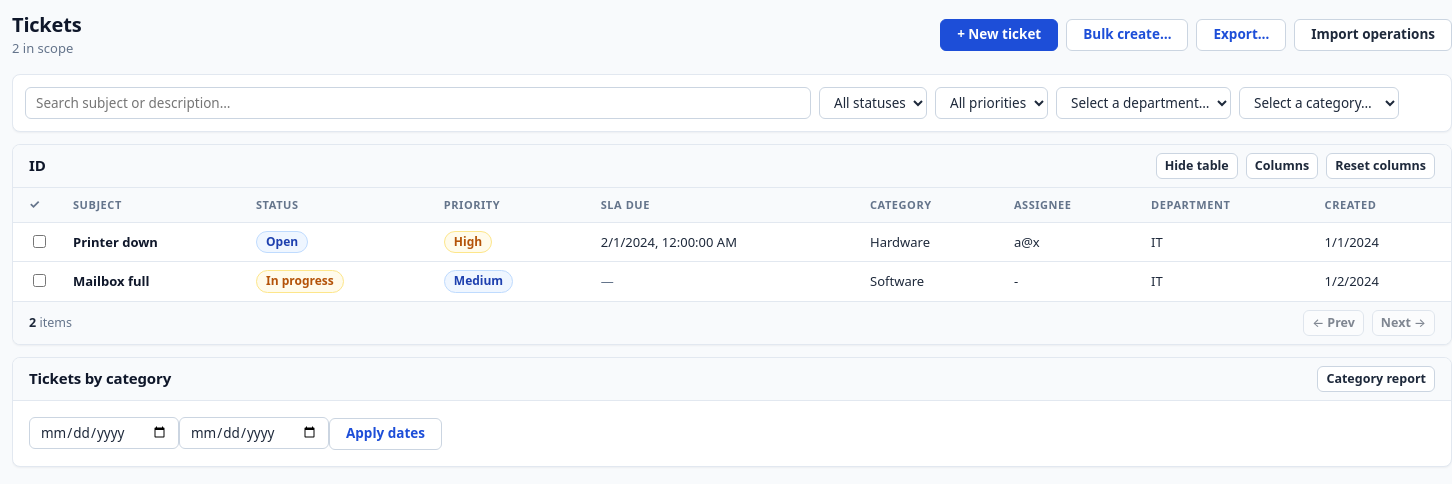
Ticket list — pagination and filtering › applies status filter and shows empty state
This screenshot has width=1452, height=484.
Expected: the link "Printer down" is shown, [73, 233, 158, 251]
Select "closed" in the dropdown named "Filter by status" at (873, 103), box [819, 87, 927, 119]
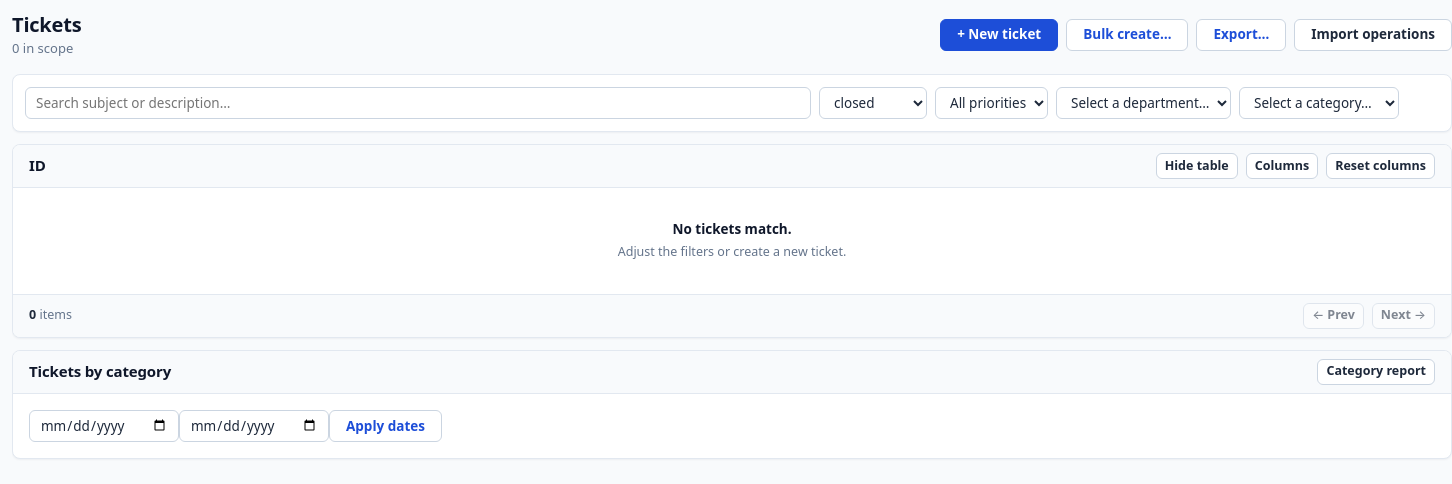
Expected: the text "No tickets match." is shown, [672, 220, 792, 238]
